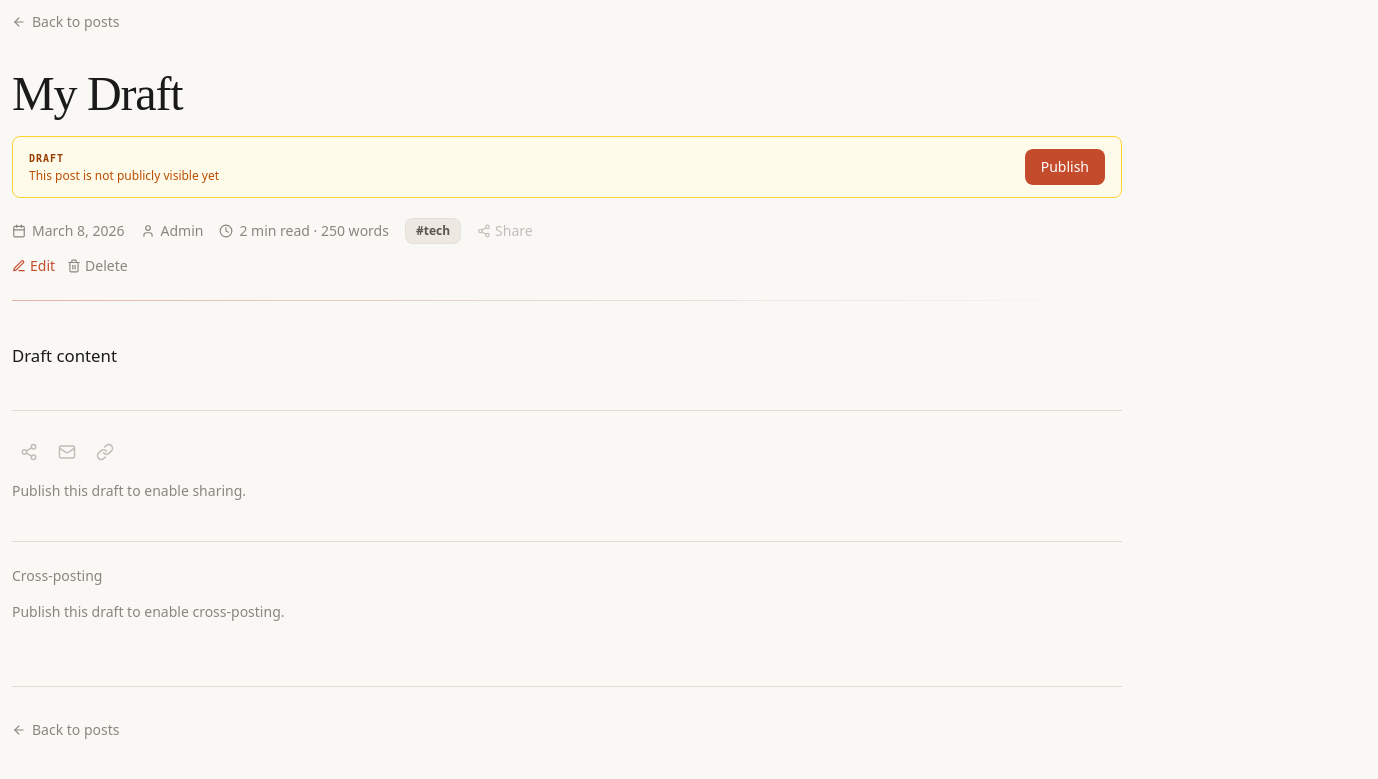
Test: PostPage › shows error message on publish failure
Step 1. Click the button "Publish" → (1065,167), box x1=1025 y1=149 x2=1105 y2=185
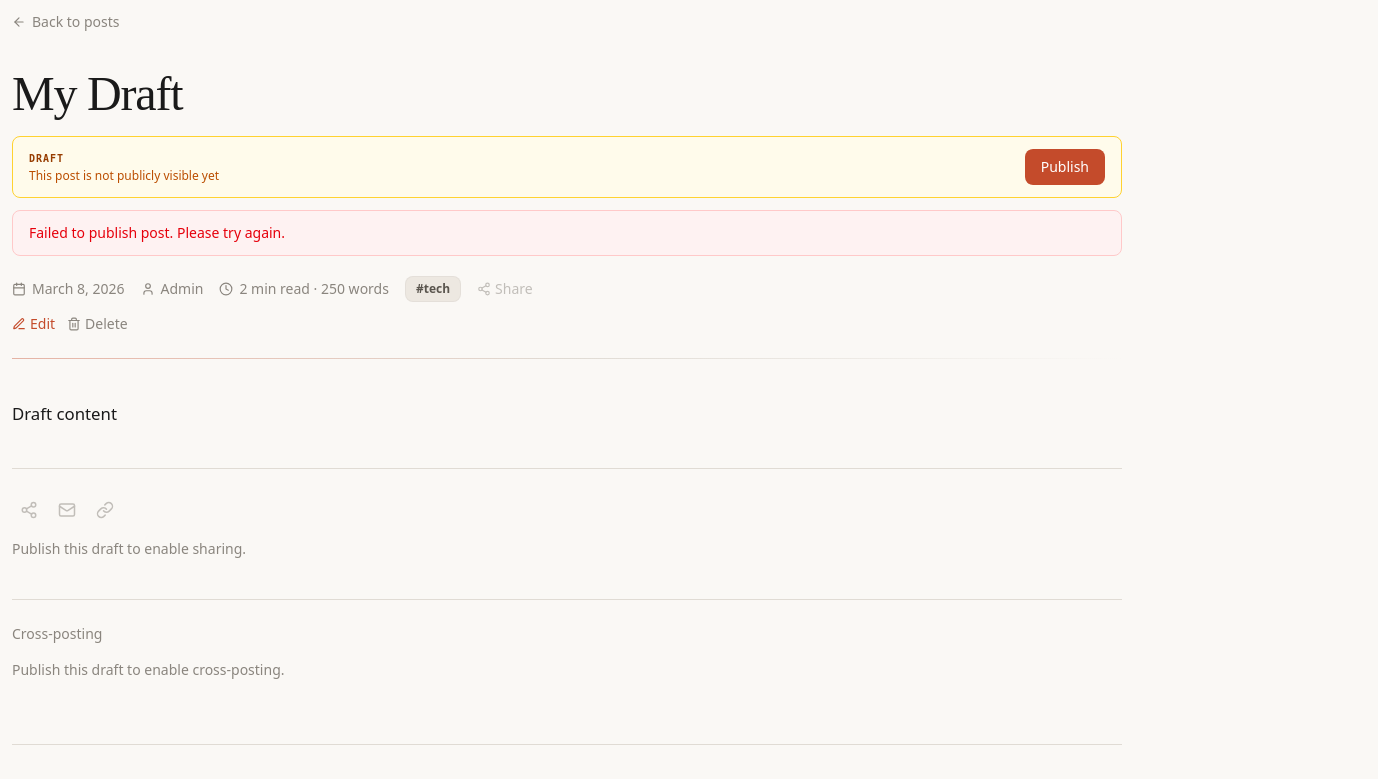
Expected: the text "Failed to publish post. Please try again." is shown, x1=12 y1=210 x2=1122 y2=256
